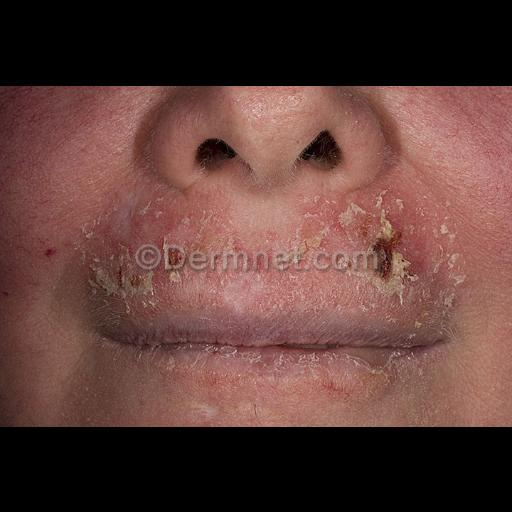Skin_Lesion: (83, 200, 161, 304), (330, 206, 410, 294), (414, 248, 456, 320), (292, 124, 348, 174), (178, 224, 228, 274), (234, 270, 260, 294), (41, 236, 57, 260)
